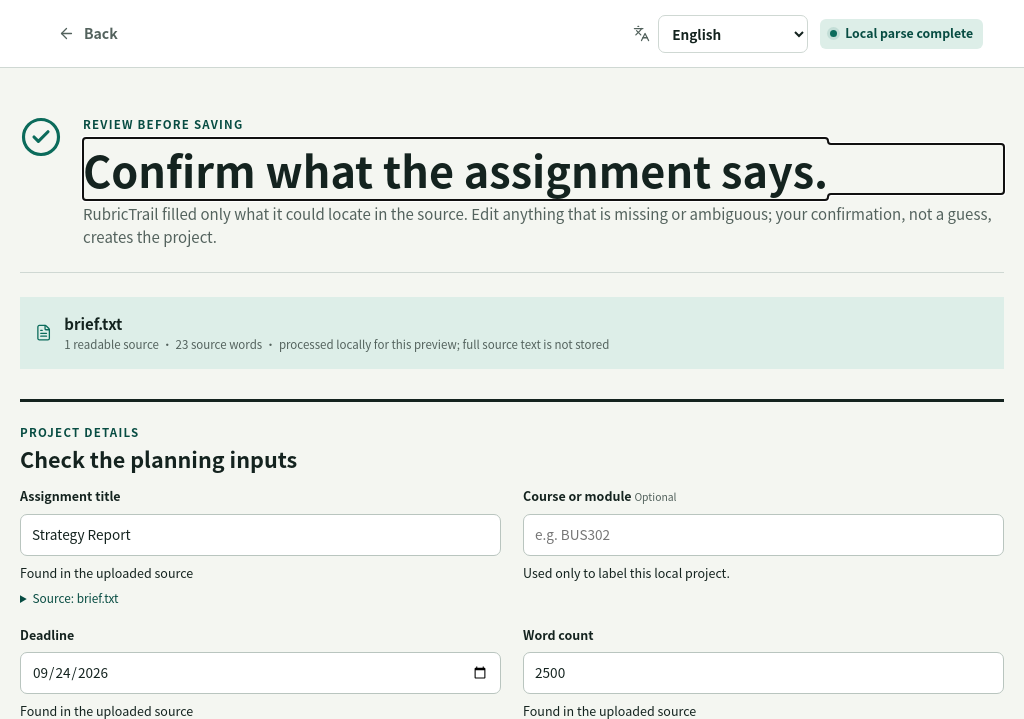
Scenario: UploadSummaryView provenance and recovery › marks edits as manual and restores source provenance after an exact revert
Replace the text in the field with test id "confirm-title" with "Edited title" at (260,535), box [20,514,501,556]
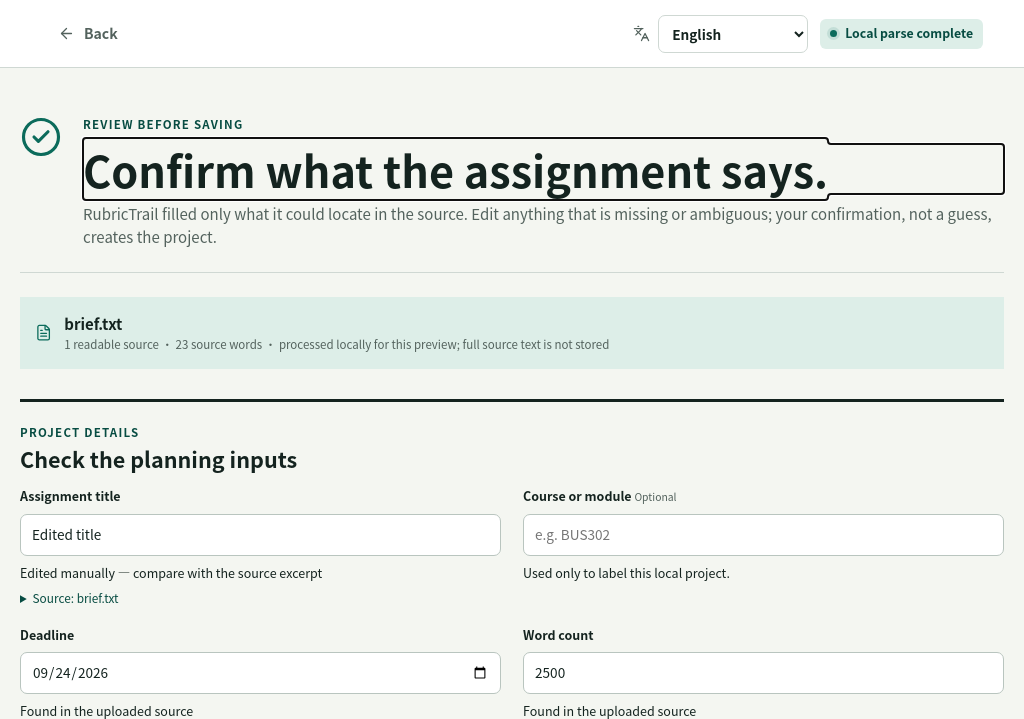
Now the text "Edited manually — compare with the source excerpt" is shown, box [20,563,322,582]
Replace the text in the field with test id "confirm-title" with "Strategy Report" at (260,535), box [20,514,501,556]
(page scrolled)
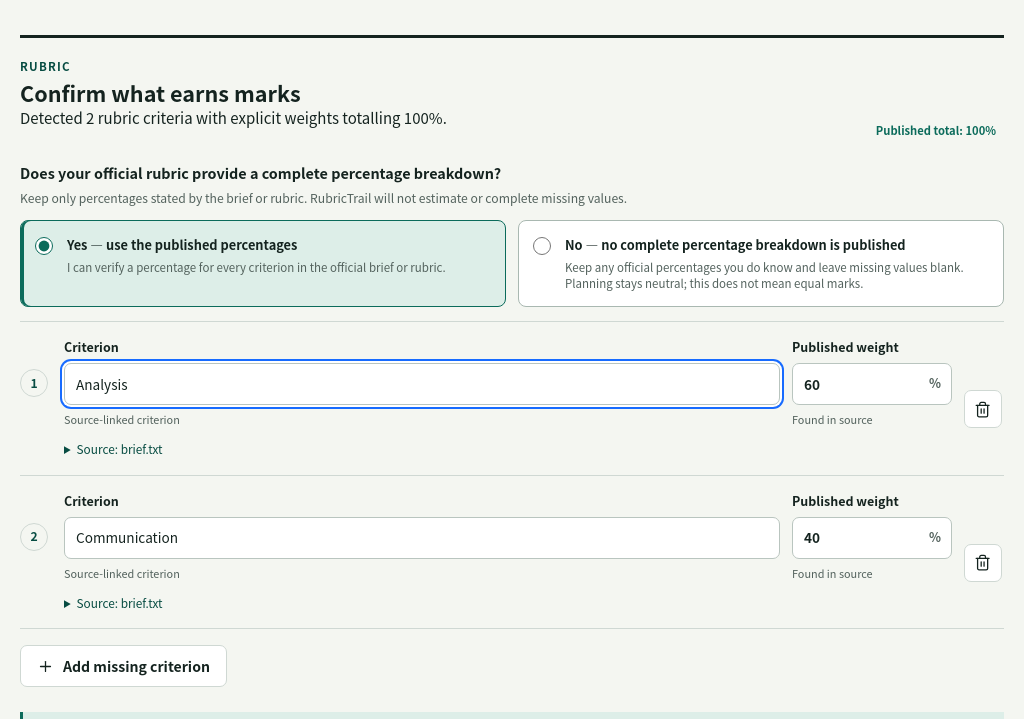
Replace the text in the field with test id "criterion-name-0" with "Edited analysis" at (422,384), box [64,364,780,406]
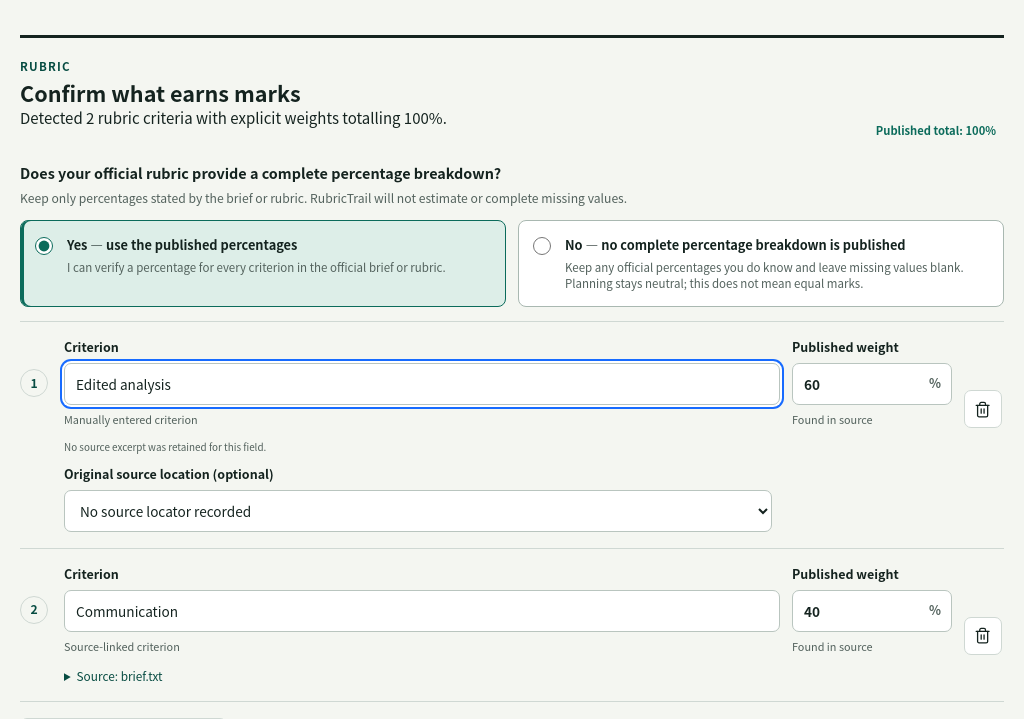
Expected: the element with test id "criterion-name-0" is shown, [20,322,1004,549]
Now the text "No source excerpt was retained for this field." is shown, box [64,440,266,454]
Select "brief.txt · TXT · Source 1" in the dropdown with test id "criterion-source-0" at (418,511), box [64,490,772,532]
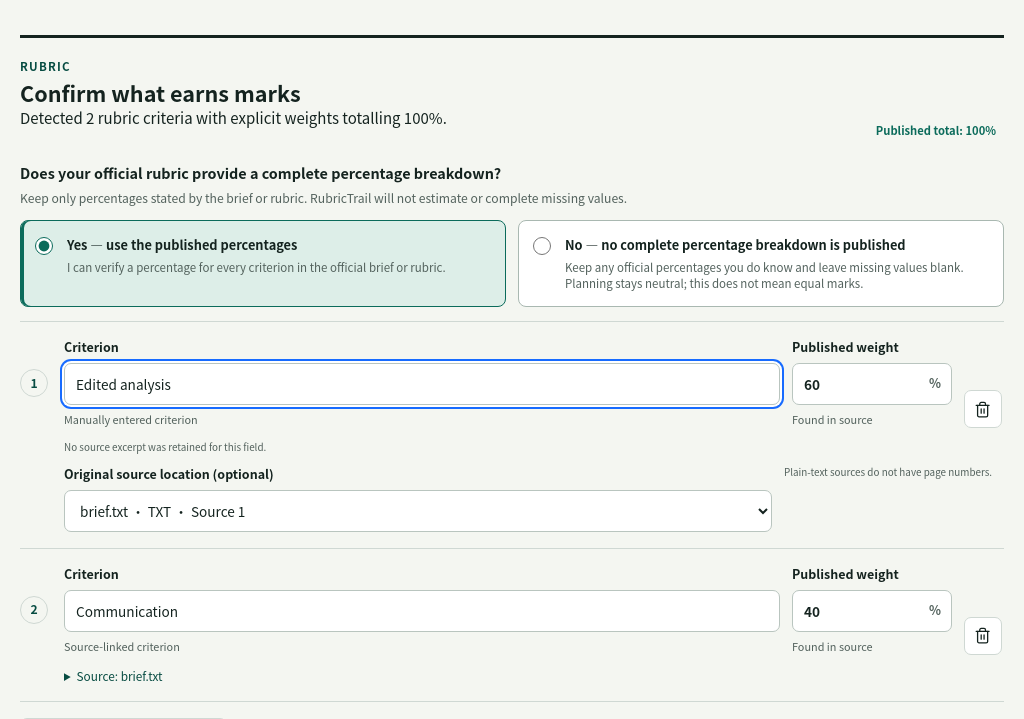
Replace the text in the field with test id "criterion-name-0" with "Analysis" at (422,384), box [64,364,780,406]
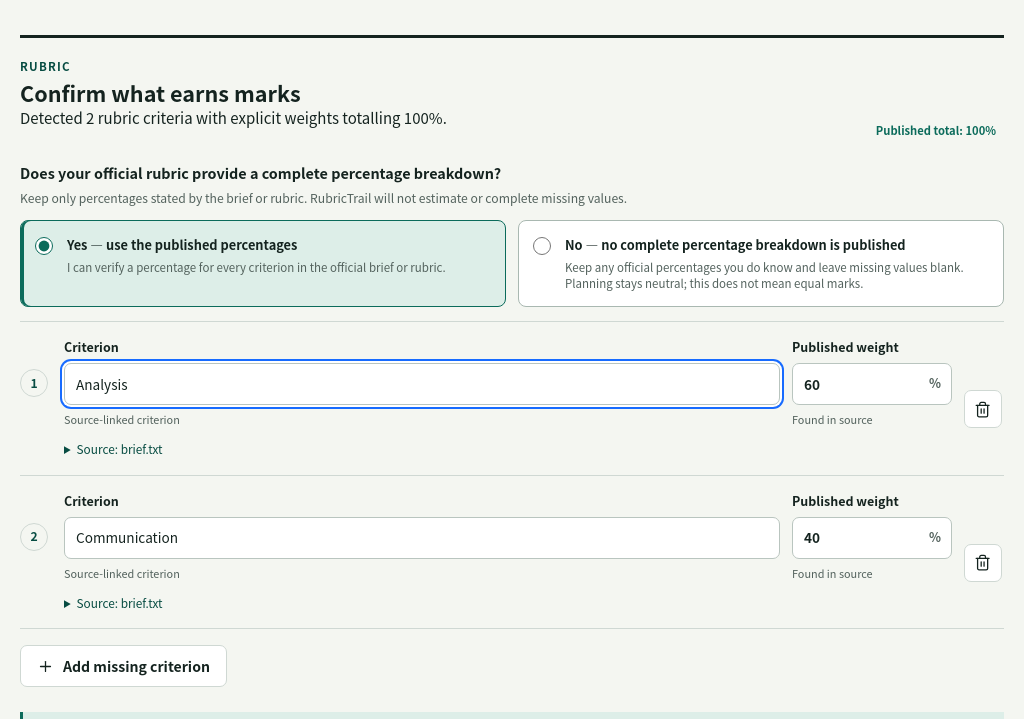
Now the 2nd heading "Source: brief.txt" is shown, box [64,440,162,459]
Now the dropdown with test id "criterion-source-0" is gone
